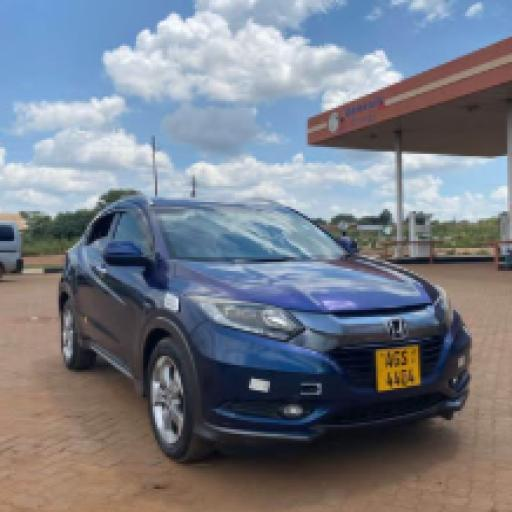number-plates: (374, 342, 426, 390)
